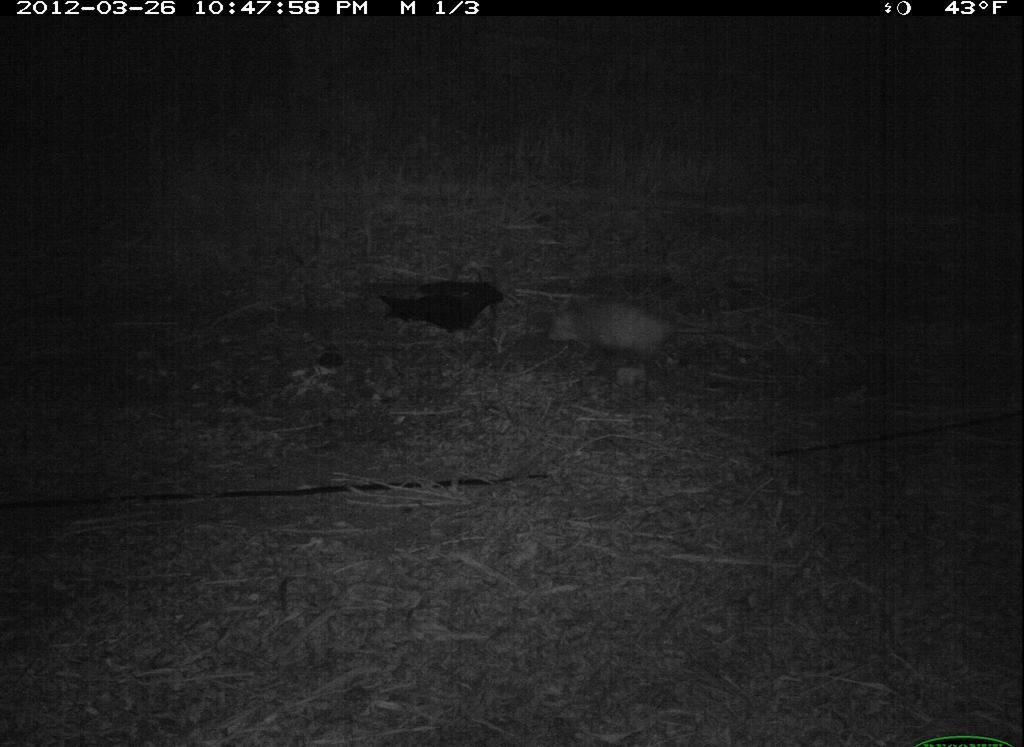opossum: (537, 289, 765, 376)
